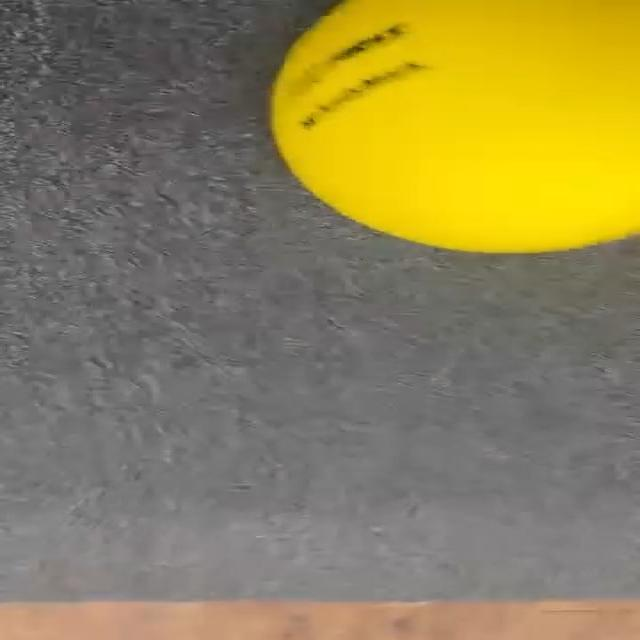Fuels: (266, 0, 640, 252)
